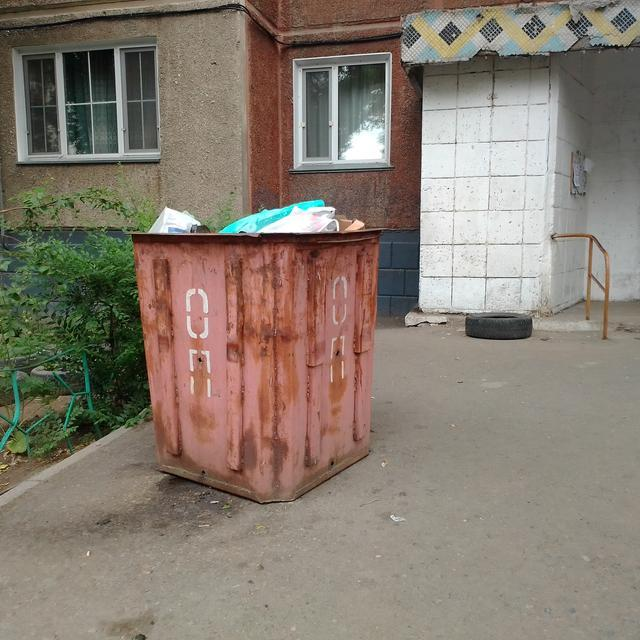Trash_Can_Full: (126, 199, 392, 503)
